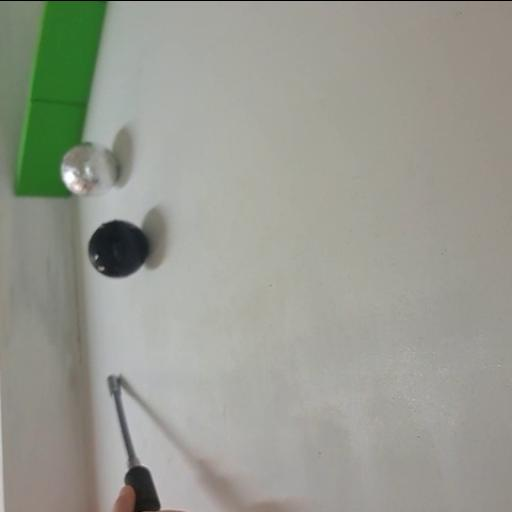alive: (62, 142, 120, 196)
dead: (88, 220, 148, 278)
